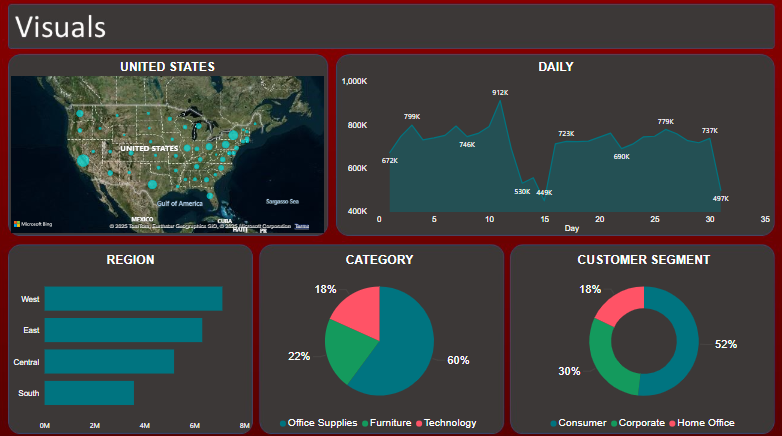

What the dashboard file says about the page in this screenshot:
{"tool":"powerbi","page":{"name":"Visuals","canvas":[1550,780],"ordinal":0},"visuals":[{"type":"barChart","title":"REGION","fields":{"Category":["Original table.customer_region"],"Y":["Sum(Original table.sales_per_order)"]},"box":[165,475,408.3,305],"z":0},{"type":"areaChart","title":"DAILY","fields":{"Y":["Sum(Original table.sales_per_order)"],"Category":["Original table.order_date.Variation.Date Hierarchy.Day"]},"box":[715,153.3,726.7,293.3],"z":1000},{"type":"map","title":"UNITED STATES","fields":{"Category":["Original table.customer_state"],"Size":["Sum(Original table.sales_per_order)"]},"box":[165,153.3,531.7,293.3],"z":2000},{"type":"donutChart","title":"CUSTOMER SEGMENT","fields":{"Category":["Original table.customer_segment"],"Y":["Sum(Original table.sales_per_order)"]},"box":[1008.3,475,433.3,305],"z":3000},{"type":"pieChart","title":"CATEGORY","fields":{"Category":["Original table.category_name"],"Y":["Sum(Original table.sales_per_order)"]},"box":[573.3,475,421.7,305],"z":4000}]}

Visuals, with their boxes on the page's 1550x780 design canvas (x1, y1, x2, y2). These are canvas units, not pixel positions in the 782x436 screenshot, which may show the page scaled, cropped or inside an application window:
"REGION" barChart: <bbox>165, 475, 573, 780</bbox>
"DAILY" areaChart: <bbox>715, 153, 1442, 447</bbox>
"UNITED STATES" map: <bbox>165, 153, 697, 447</bbox>
"CUSTOMER SEGMENT" donutChart: <bbox>1008, 475, 1442, 780</bbox>
"CATEGORY" pieChart: <bbox>573, 475, 995, 780</bbox>
